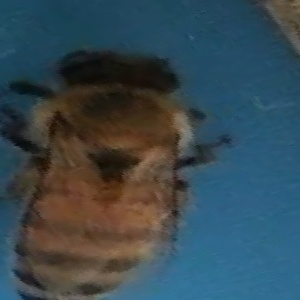bee: (2, 48, 237, 300)
